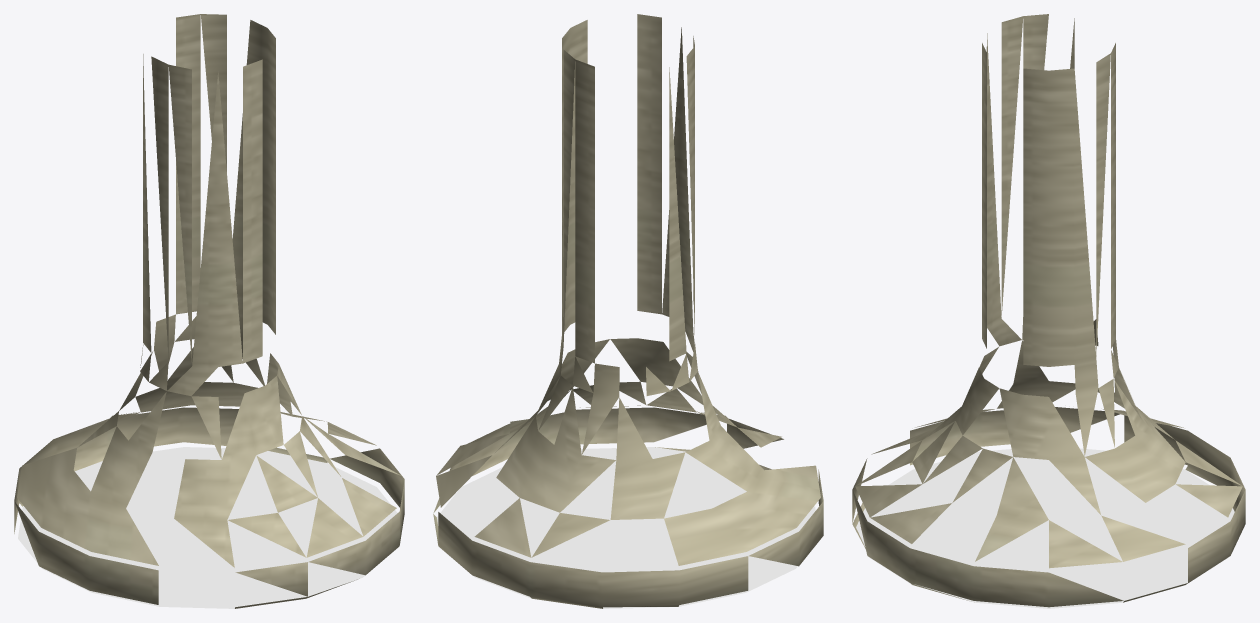
The picture shows the model from 3 angles, left to right: view 1: azimuth 30°, elevation 25°; view 2: azimuth 150°, elevation 25°; view 3: azimuth 270°, elevation 25°; orthographic projection.
Bounding box in the file's own units: 0.335 × 0.4561 × 0.335.
